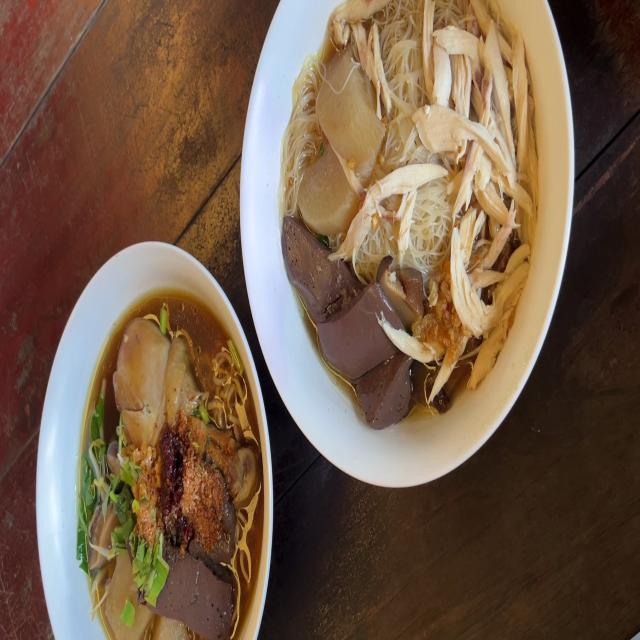noodle: (278, 6, 538, 391), (70, 291, 268, 640)
